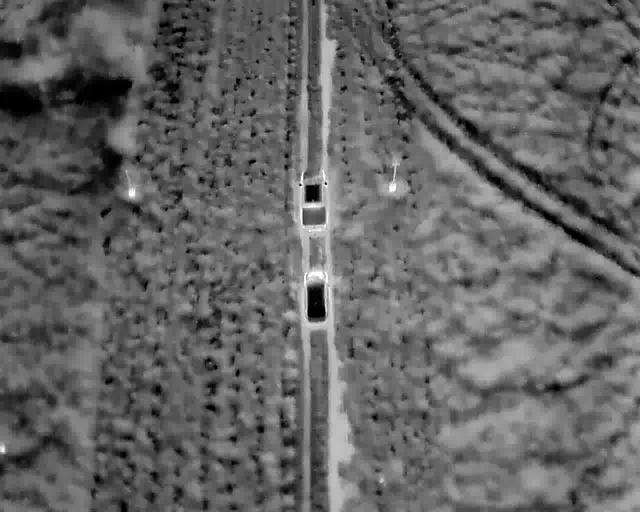car: (298, 165, 328, 232), (303, 268, 332, 324)
